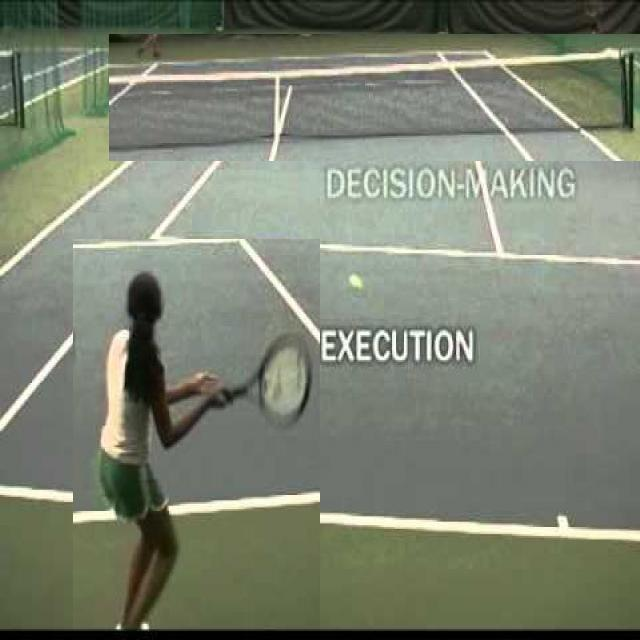court: (0, 135, 640, 568)
net: (109, 34, 640, 162)
player: (73, 240, 320, 640)
